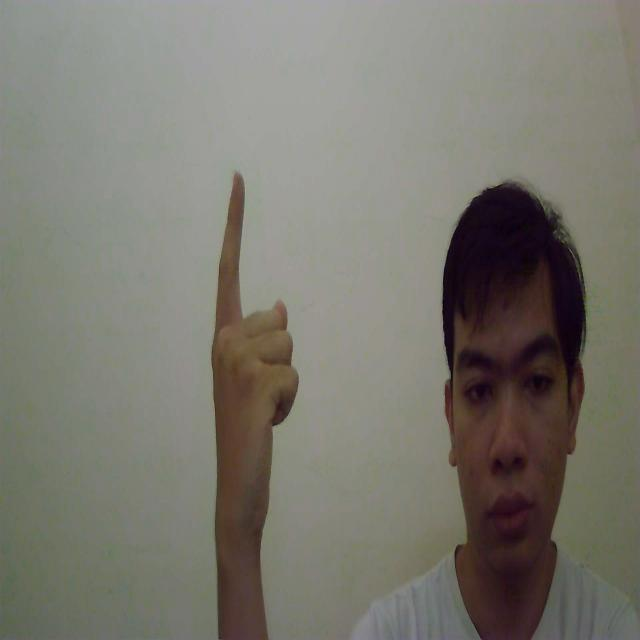D: (211, 171, 301, 527)
